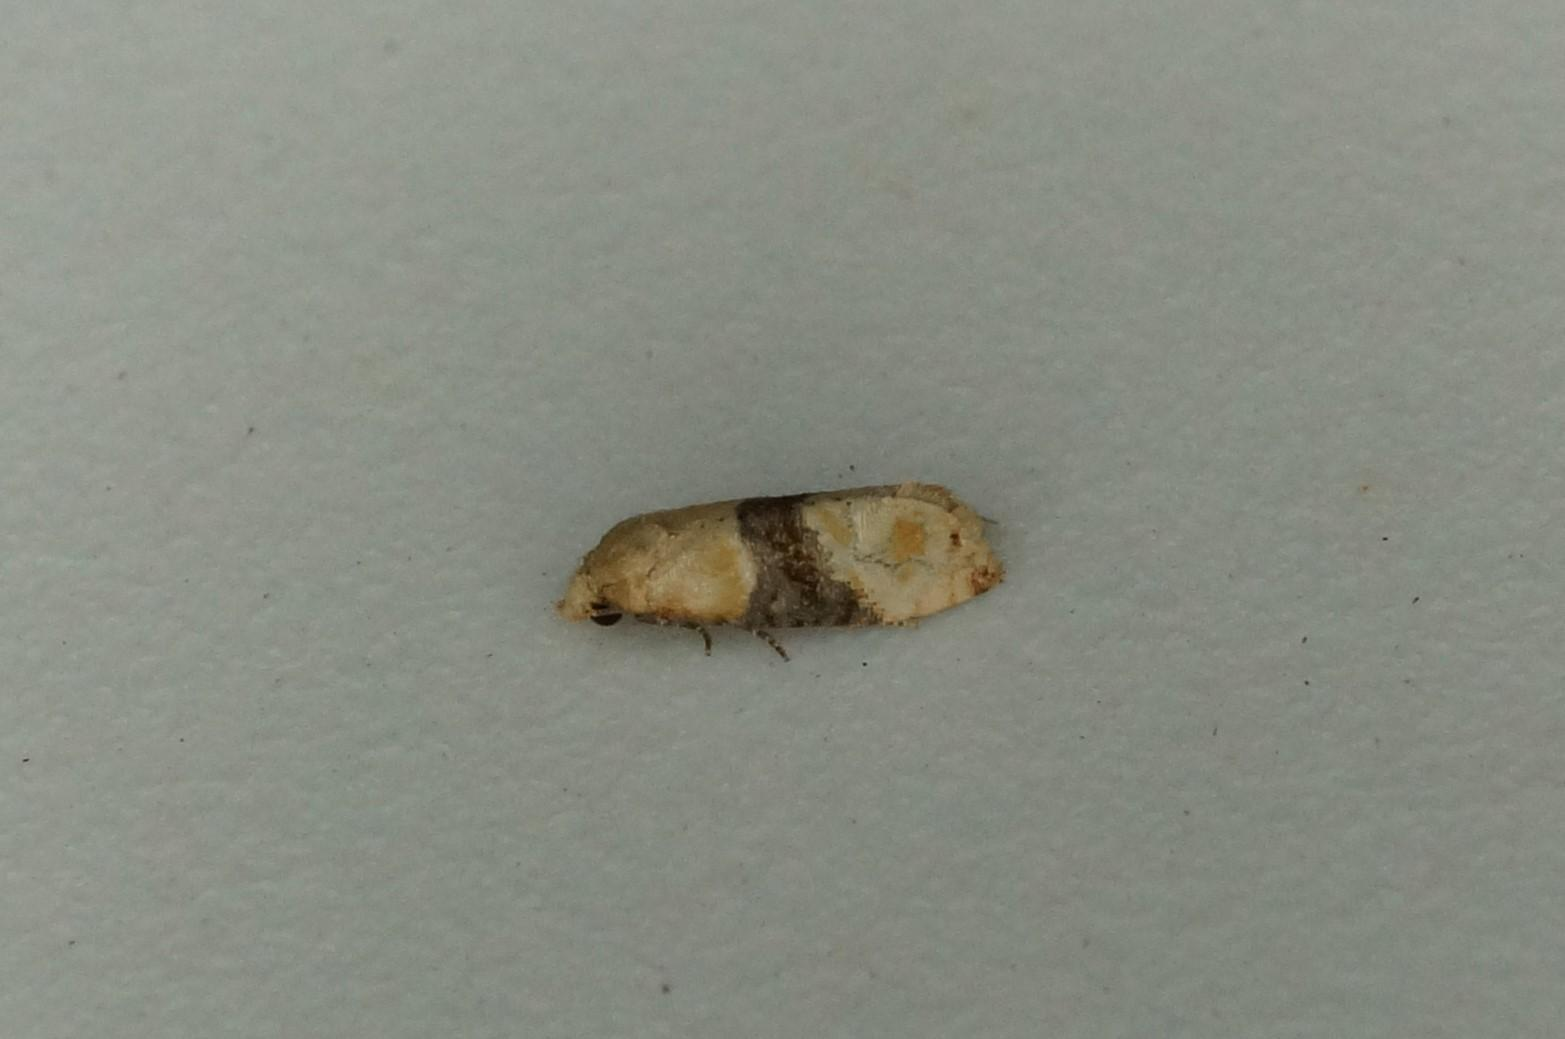Eupoecilia Ambiguella: (551, 473, 1009, 663)
